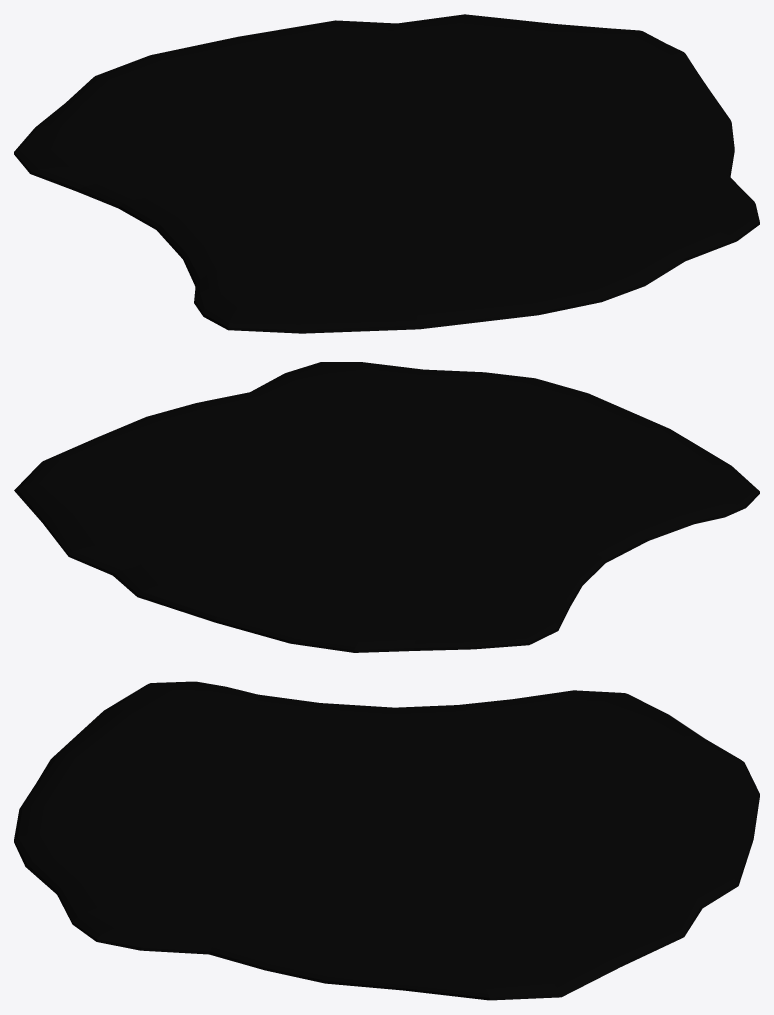
The model's file is OilSpill.fbx.
The picture shows the model from 3 angles, top to bottom: view 1: azimuth 30°, elevation 25°; view 2: azimuth 150°, elevation 25°; view 3: azimuth 270°, elevation 25°; orthographic projection. The views are drawn at different scales.
Parts seen in each view (by area): view 1: Plane; view 2: Plane; view 3: Plane.
Boxes of the visible parts, x1=… form: Plane: x1=14, y1=14, x2=759, y2=333; Plane: x1=14, y1=362, x2=759, y2=652; Plane: x1=14, y1=681, x2=759, y2=1000.
Bounding box in the file's own units: 8.26 × 0.1 × 8.24.
